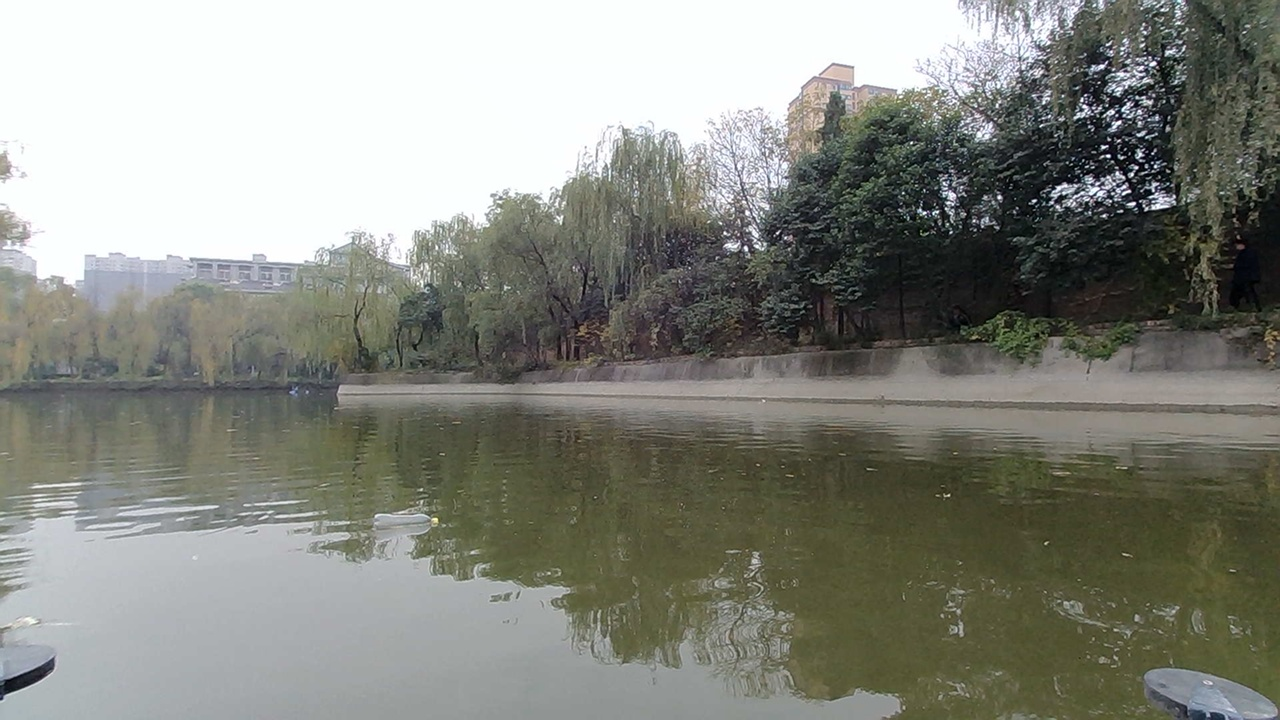bottle: (357, 495, 454, 553)
